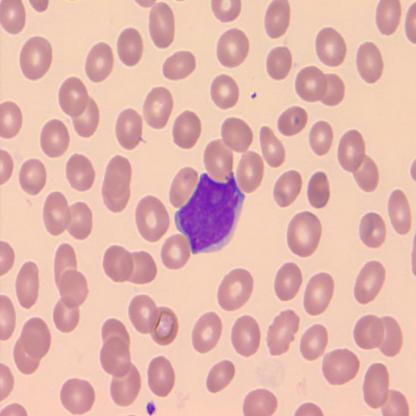Blast: (172, 170, 246, 259)
